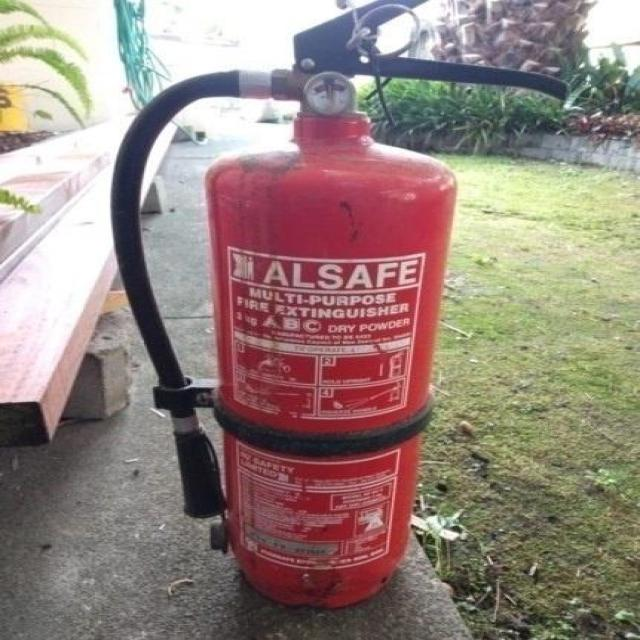fire_extinguisher: (103, 0, 574, 613)
